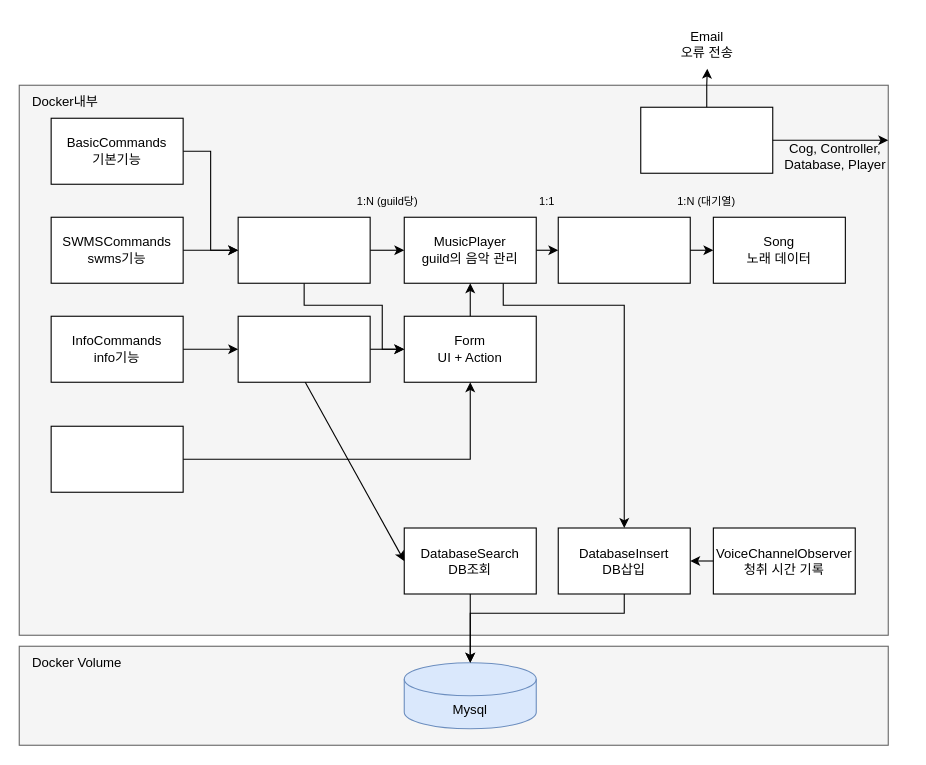
The diagram is 926 pixels wide and 765 high, and some of its shapes have lost their labels. Each missing label, with the centre of its shape:
"Admin 개발자 전용 기능" goes at pixel 116 458.
"Guild guild1 음악 대기열" goes at pixel 623 249.
"InfoController 서버 기록 제공" goes at pixel 303 348.
"MusicController guild들 관리" goes at pixel 303 249.
"StateChecker ErrorController" goes at pixel 706 139.
